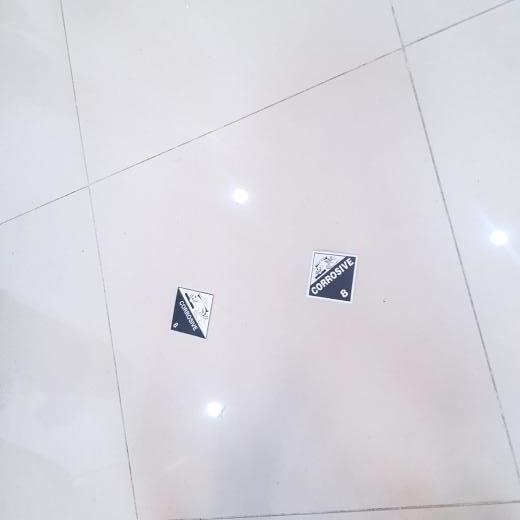corrosive: (306, 248, 359, 305), (169, 286, 215, 341)
